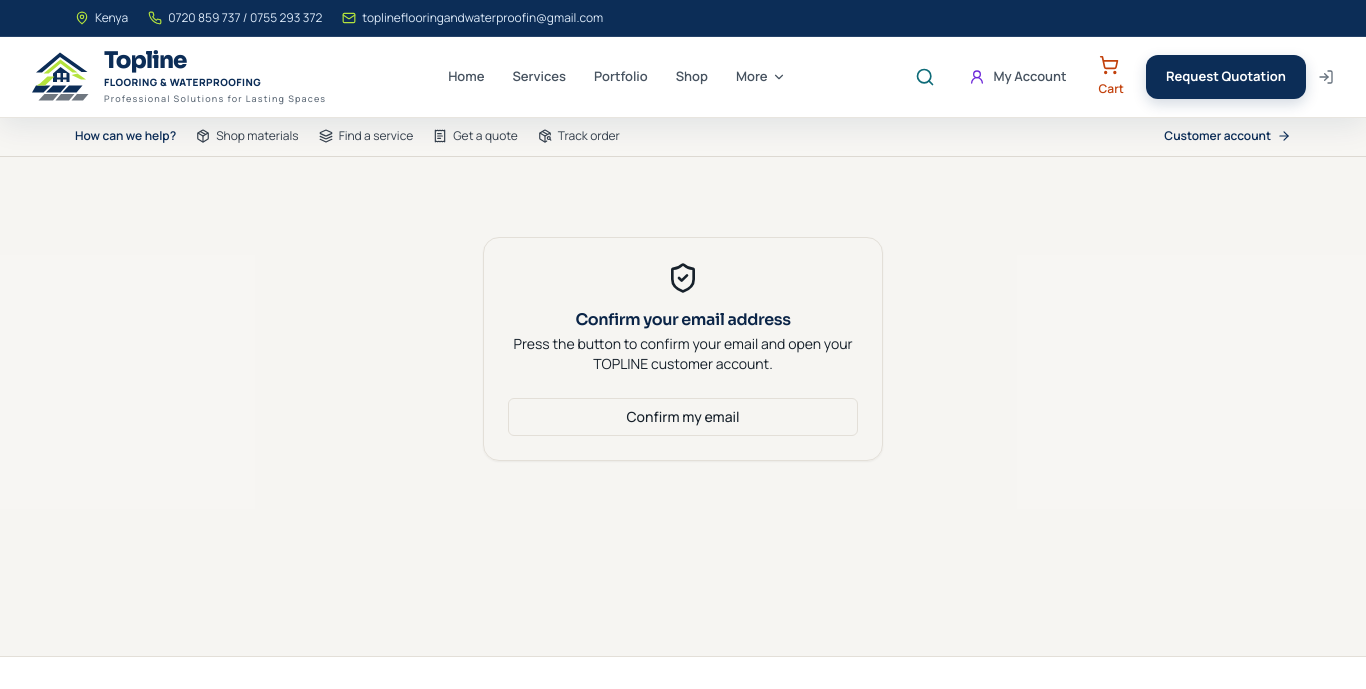
Test case: scanner-proof email links (token_hash) › does not spend the token when the page merely opens, only when the buyer presses the button
The image size is (1366, 689).
Expected: the heading "Confirm your email address" is shown, x1=576 y1=309 x2=791 y2=330
Step 1. Click the button "Confirm my email" → (683, 417), box x1=508 y1=398 x2=858 y2=436
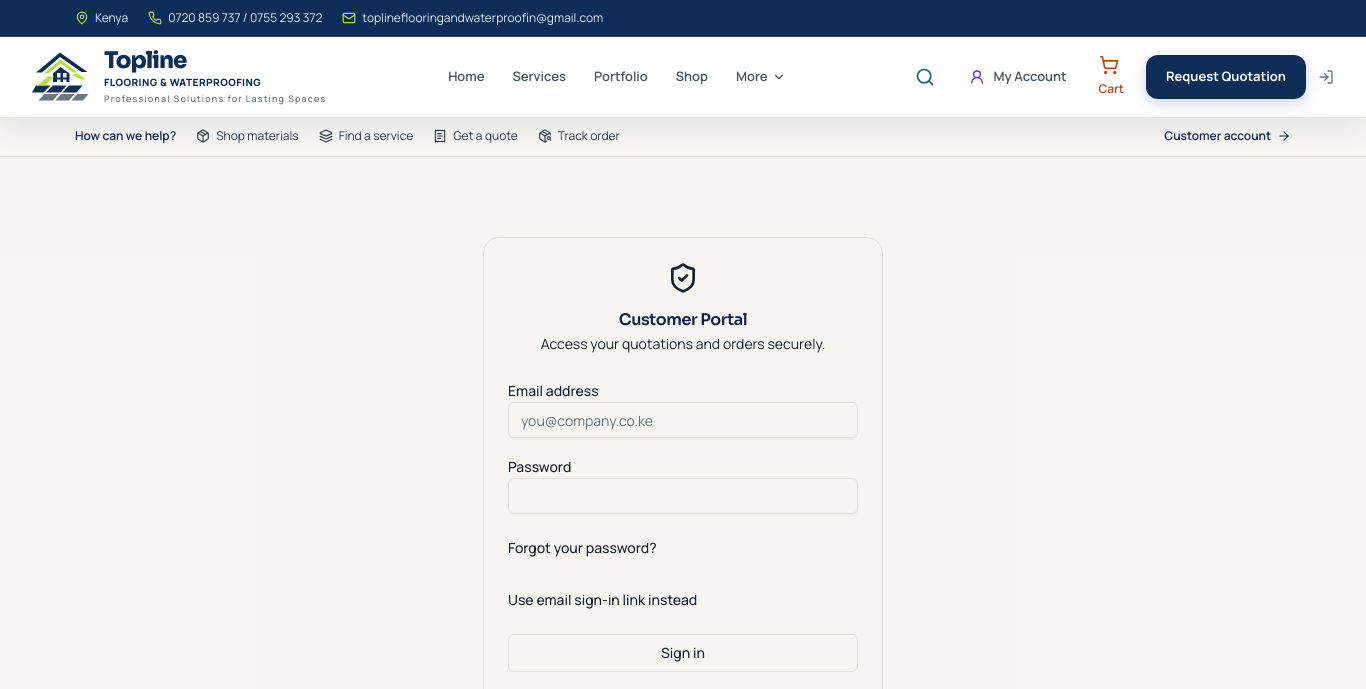
Expected: the button "Confirm my email" is gone
